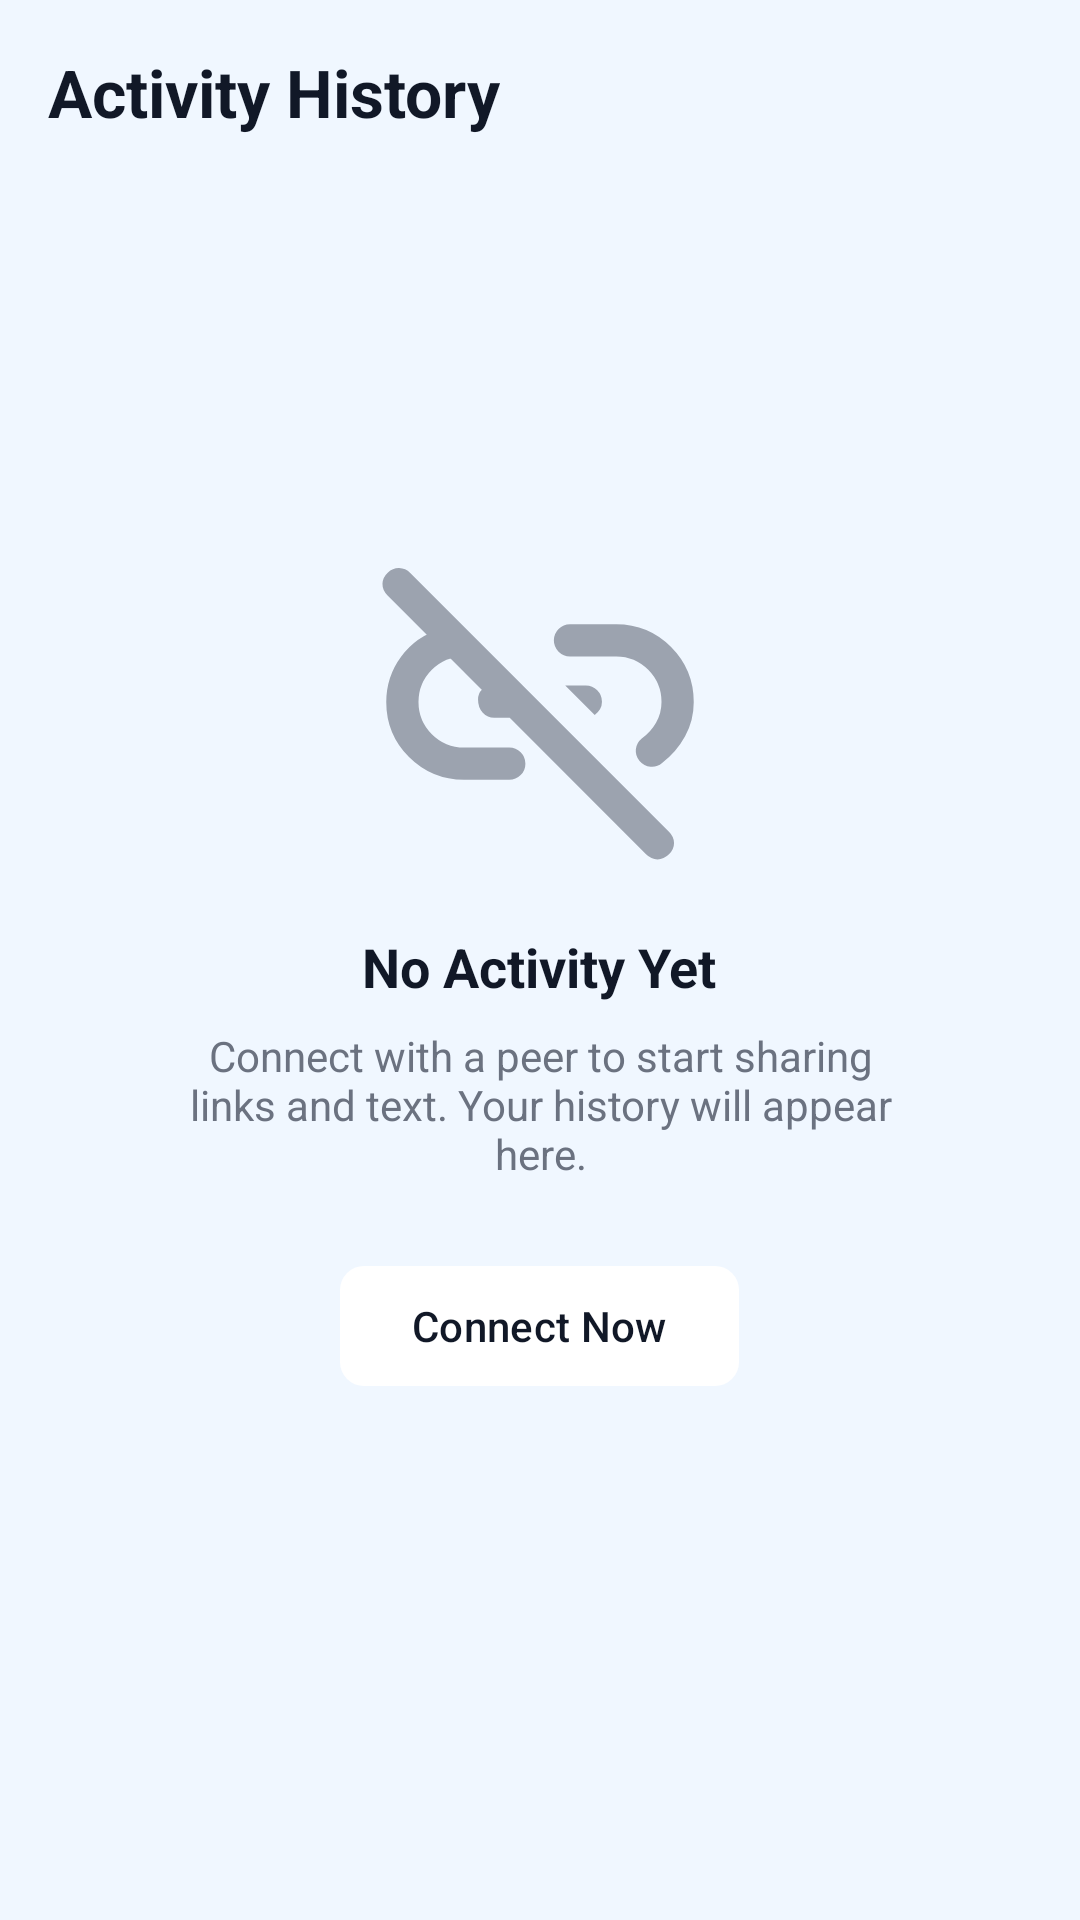

Named icons in this screenshot (1080×1920) and their centers, [x,y]:
disconnected: [538,714]
